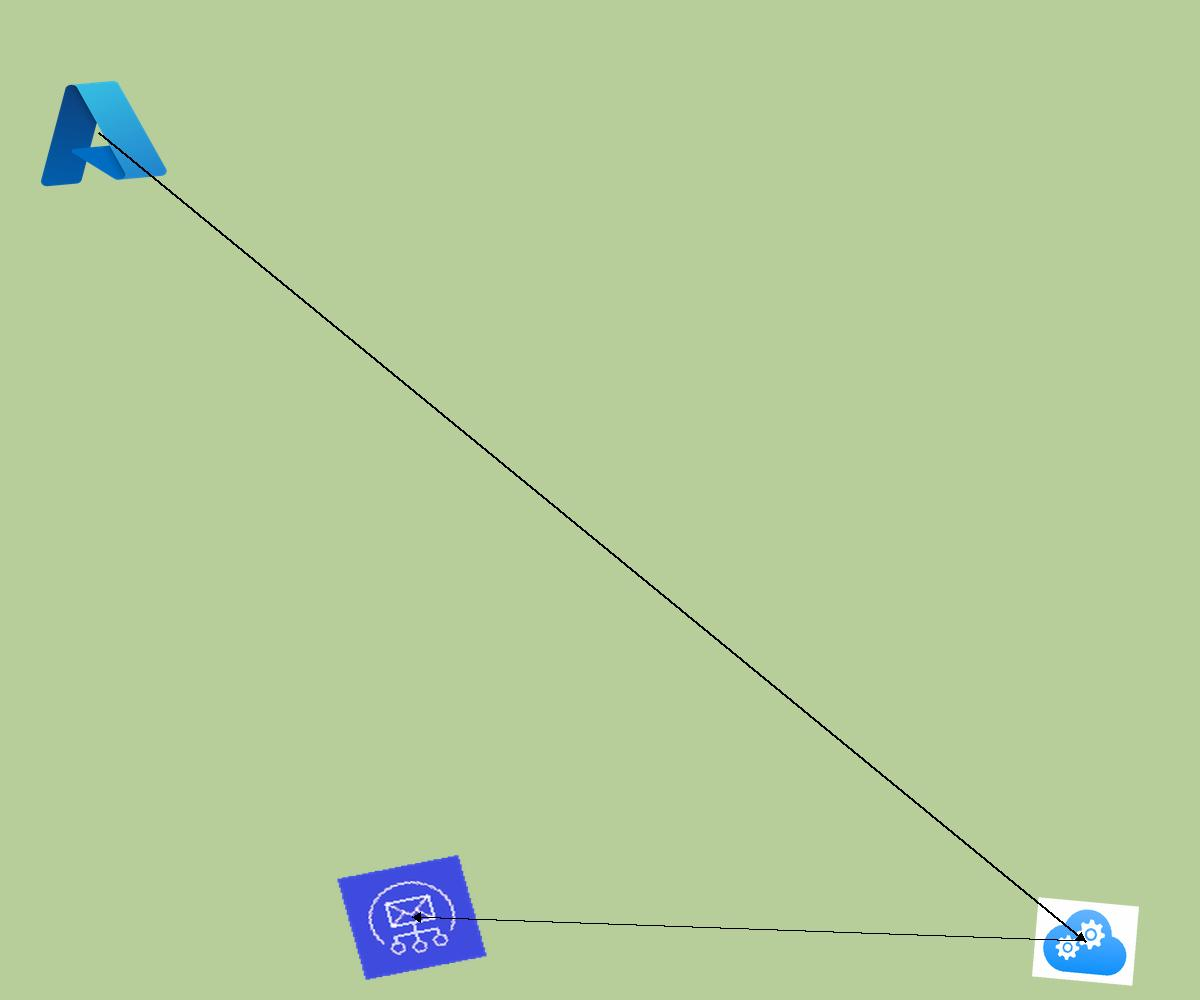AWS-Simple-Email-Service: (336, 854, 488, 981)
Azure_cloud_services: (1032, 897, 1139, 986)
Azure_services: (22, 69, 174, 195)
